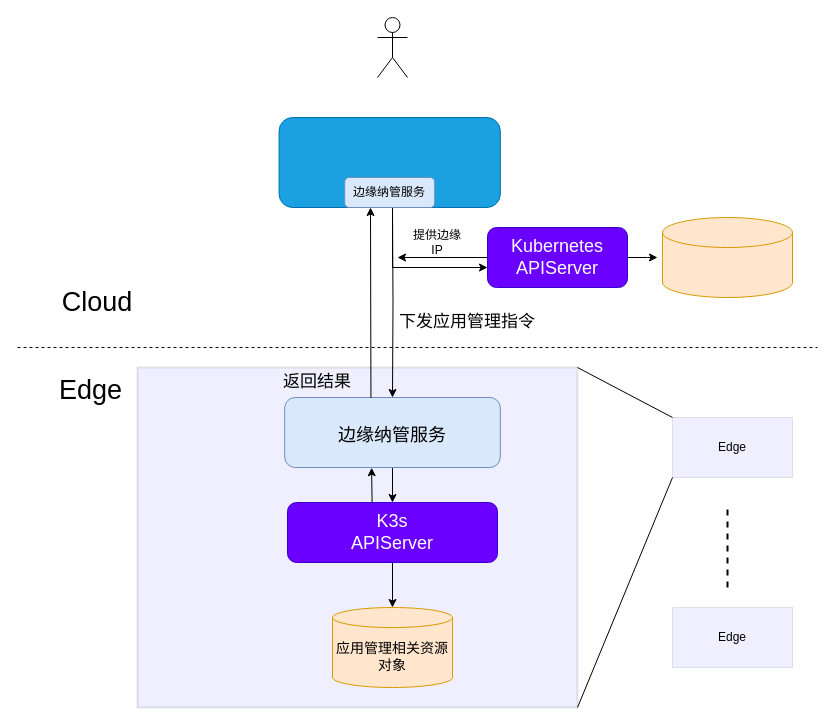
Image size: 836x726. Some labels were removed from this diagram. Each missing label, with the box of its shape:
Actor: (376, 16, 408, 78)
控制台: (278, 116, 500, 208)
自定义资源对象 提供边缘端IP地址: (662, 216, 792, 298)
